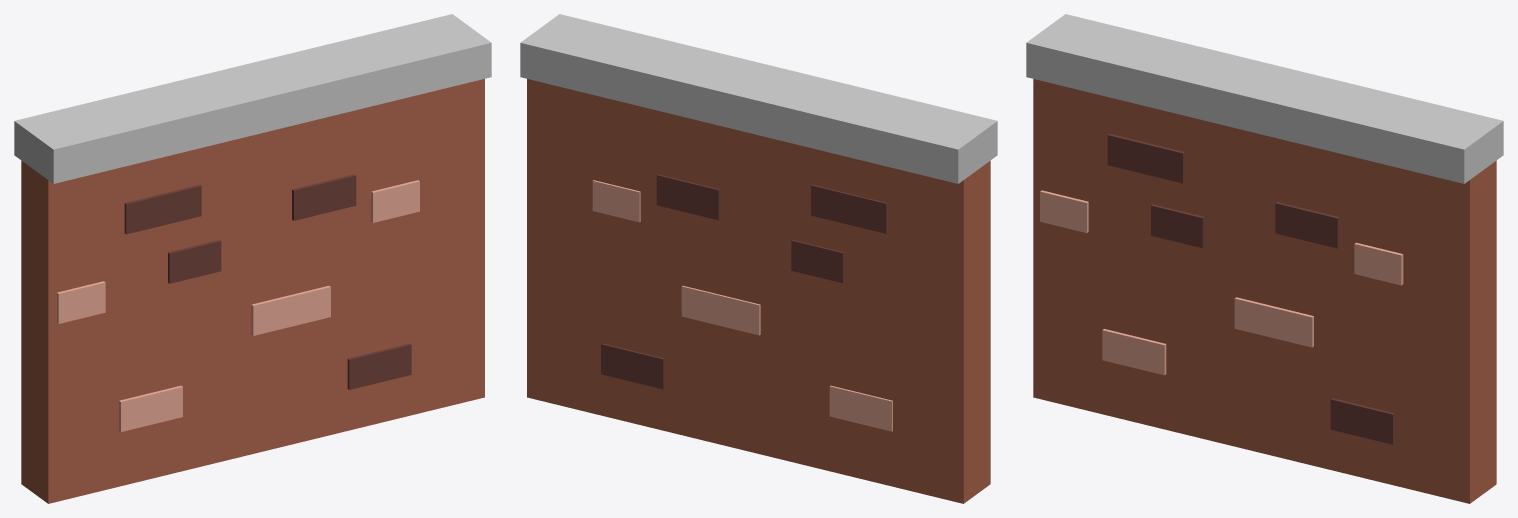
The picture shows the model from 3 angles, left to right: view 1: azimuth 30°, elevation 25°; view 2: azimuth 150°, elevation 25°; view 3: azimuth 330°, elevation 25°; orthographic projection.
Visible parts, largest first — view 1: wq; view 2: wq; view 3: wq.
Part boxes in pixels (x1,y1,x2,y2): wq: (14,14,491,503); wq: (520,14,997,503); wq: (1026,14,1503,503).
Bounding box in the file's own units: 160 × 125 × 24.86.
